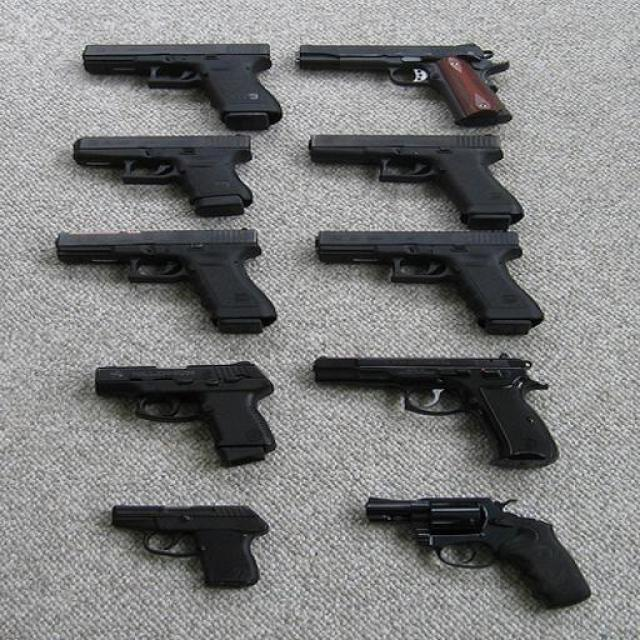pistol: (308, 351, 559, 466), (362, 494, 590, 609), (314, 227, 543, 336), (89, 358, 279, 466), (105, 504, 271, 590)
